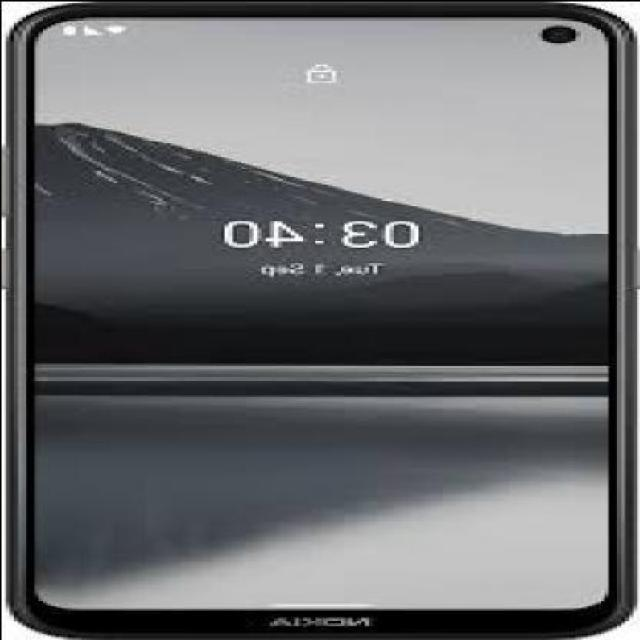cellphone: (4, 5, 636, 638)
